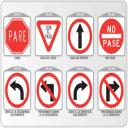NoVirarDireita: (98, 72, 124, 108)
NoVirarEsquerda: (35, 72, 61, 110)
Pare: (4, 18, 30, 54)
